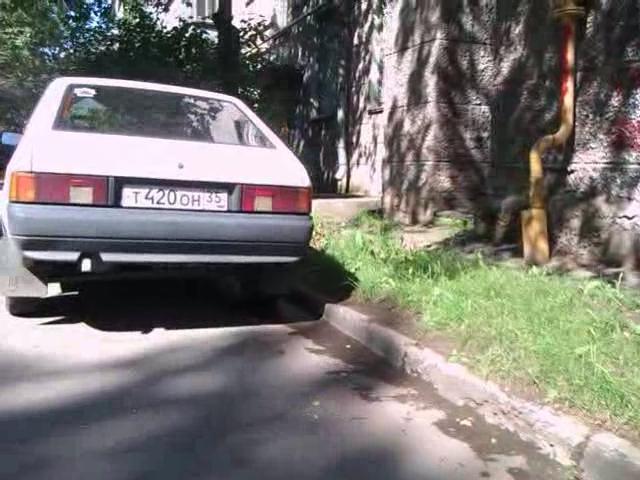car license plate: (116, 178, 230, 221)
